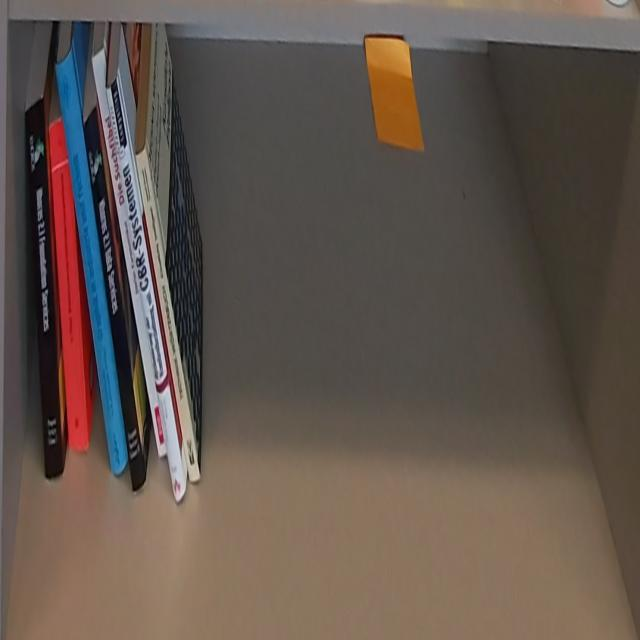Book Spine: (106, 77, 186, 508), (53, 48, 128, 477), (91, 48, 168, 455), (83, 106, 146, 492), (136, 142, 200, 484), (24, 98, 64, 478), (47, 117, 88, 452)
